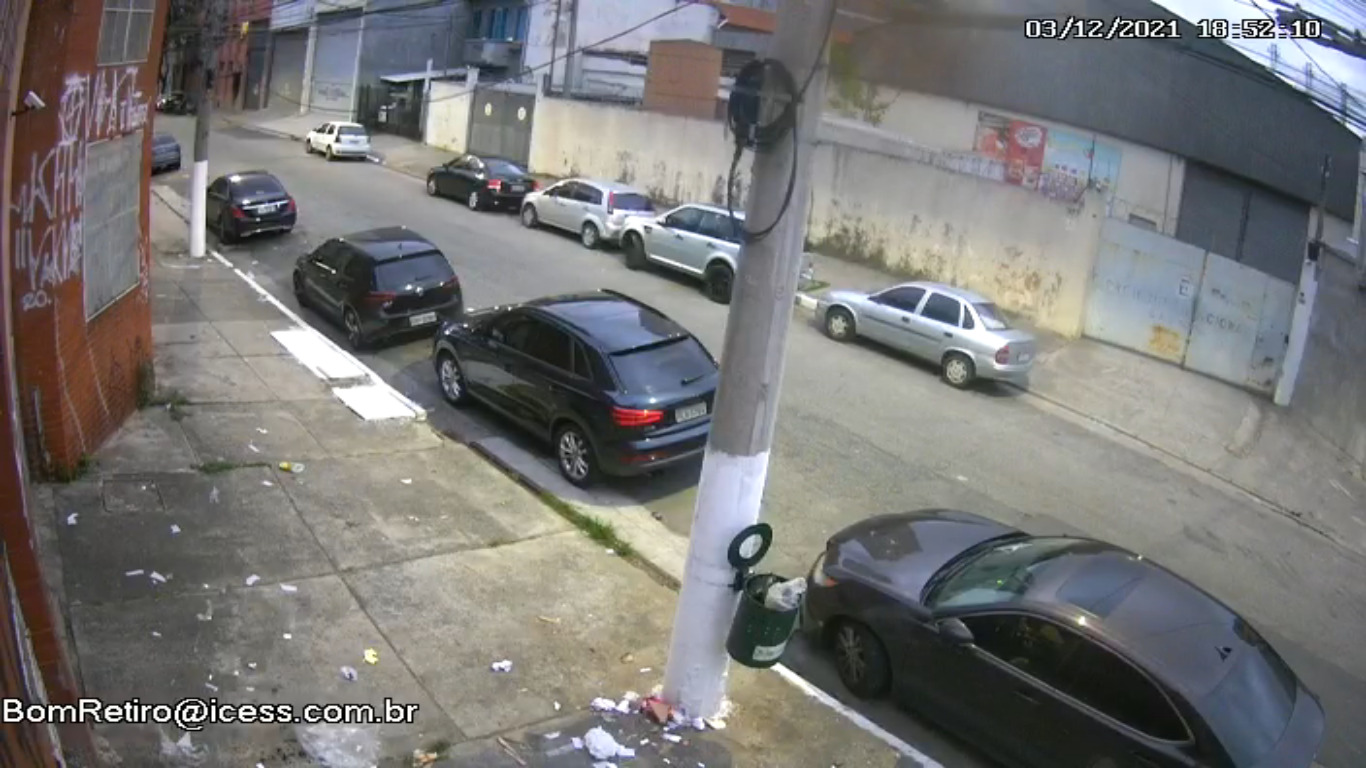car: (430, 286, 751, 492), (813, 274, 1037, 393), (290, 222, 469, 356), (617, 192, 821, 302), (518, 170, 659, 248), (195, 165, 302, 244), (424, 149, 542, 213), (303, 118, 374, 164)
misc: (1079, 218, 1296, 406), (725, 521, 807, 670)
